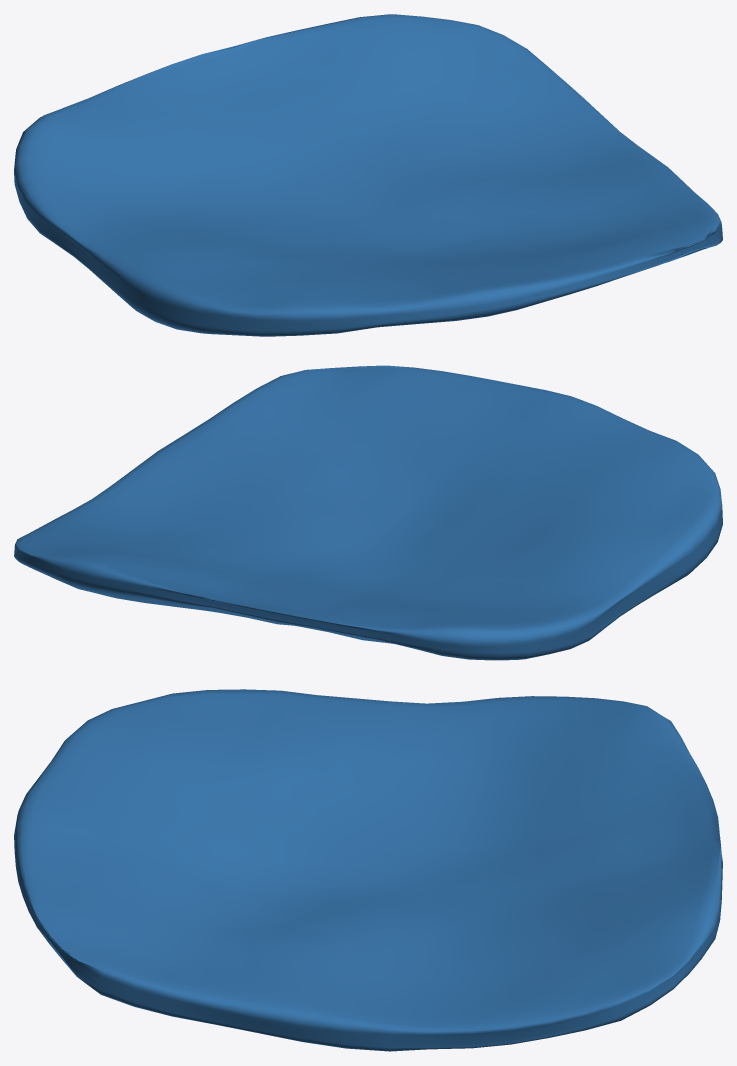
The model's file is cojin_silla.fbx.
3 views of the same model, one above another, from view 1: azimuth 30°, elevation 25°; view 2: azimuth 150°, elevation 25°; view 3: azimuth 270°, elevation 25° (orthographic). The views are drawn at different scales.
Visible parts, largest first — view 1: zidle.design.pols.002; view 2: zidle.design.pols.002; view 3: zidle.design.pols.002.
Boxes of the visible parts, left/top/right/bottom form: zidle.design.pols.002: left=14, top=14, right=722, bottom=336; zidle.design.pols.002: left=14, top=365, right=722, bottom=660; zidle.design.pols.002: left=14, top=689, right=722, bottom=1051.
Size of the model in its own units: 677 by 105 by 670.
